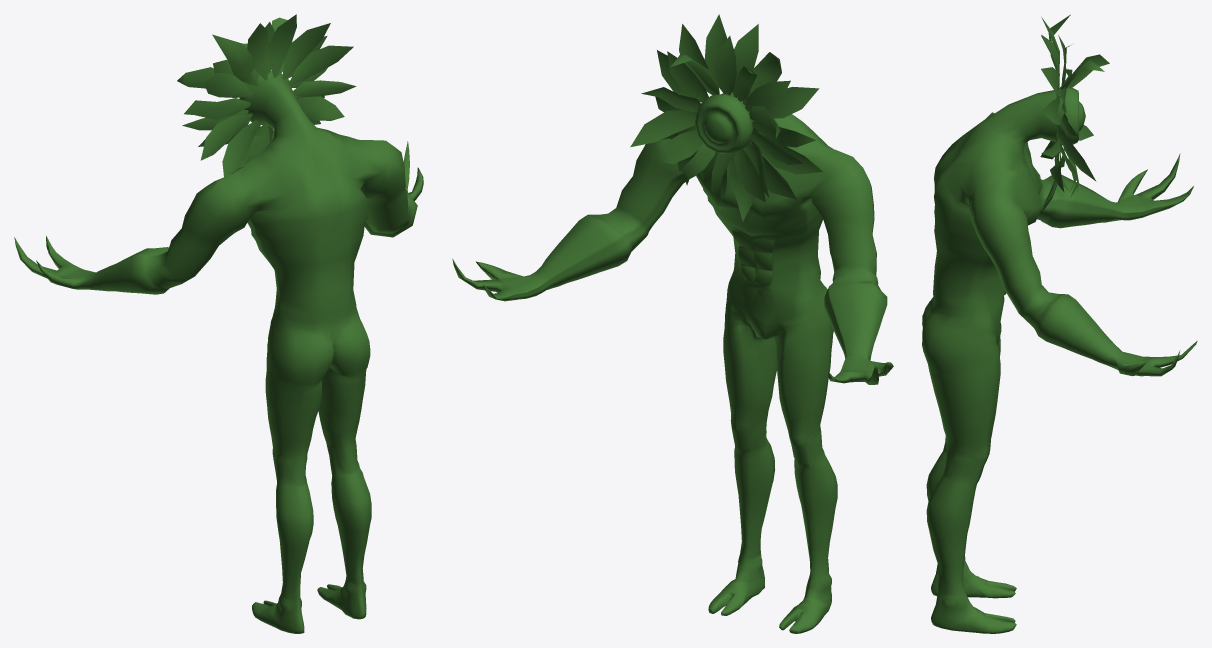
The model's file is MOD_EnemyBuff_UVReady.fbx.
3 views of the same model, side by side, from view 1: azimuth 30°, elevation 25°; view 2: azimuth 150°, elevation 25°; view 3: azimuth 270°, elevation 25° (orthographic). The views are drawn at different scales.
Parts seen in each view (by area): view 1: BuffFlower_UV; view 2: BuffFlower_UV; view 3: BuffFlower_UV.
Part boxes in pixels (x1,y1,x2,y2): BuffFlower_UV: (14,14,423,633); BuffFlower_UV: (452,14,893,633); BuffFlower_UV: (922,14,1197,633).
Bounding box in the file's own units: 418 × 579 × 247.
